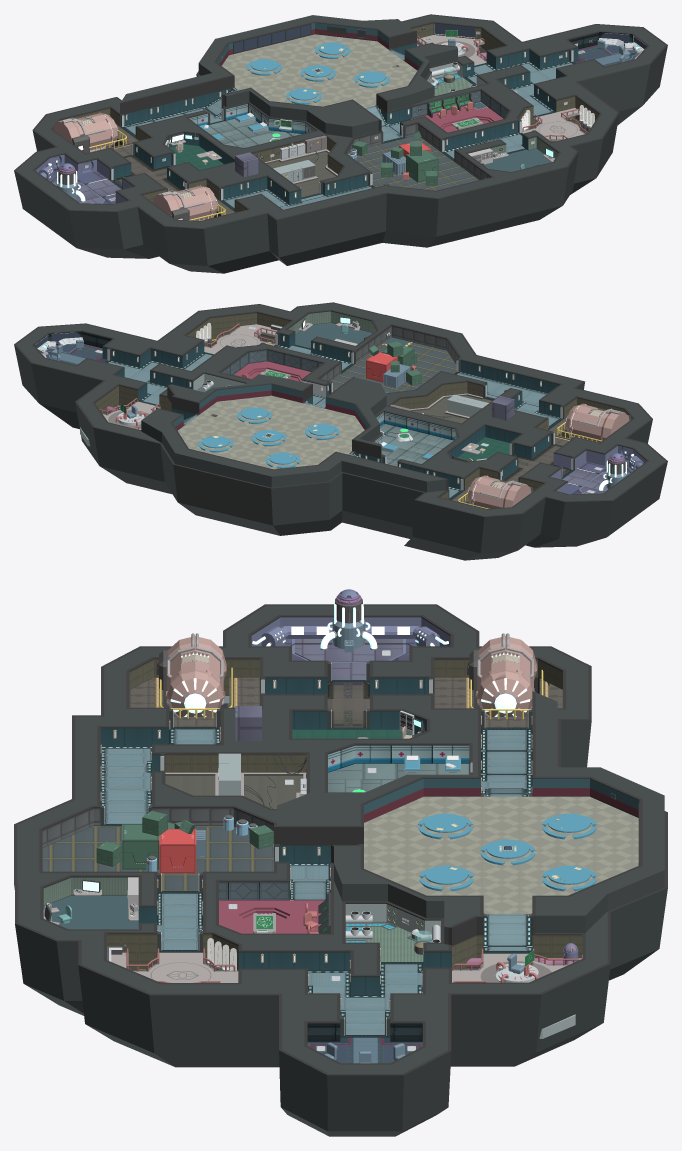
Rendered from AmongUsMap.fbx.
3 views of the same model, one above another, from view 1: azimuth 30°, elevation 25°; view 2: azimuth 150°, elevation 25°; view 3: azimuth 270°, elevation 25° (orthographic). The views are drawn at different scales.
Visible parts, largest first — view 1: Object_99; view 2: Object_99; view 3: Object_99.
Part boxes in pixels (left/top/right/bottom): Object_99: left=14, top=14, right=667, bottom=273; Object_99: left=14, top=302, right=667, bottom=560; Object_99: left=14, top=589, right=667, bottom=1136.
Bounding box in the file's own units: 84.43 × 10.5 × 49.52.
